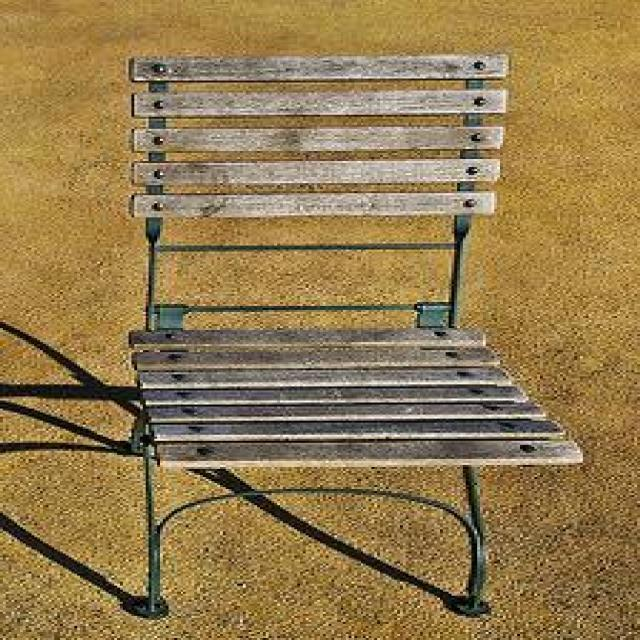chair: (129, 55, 586, 620)
